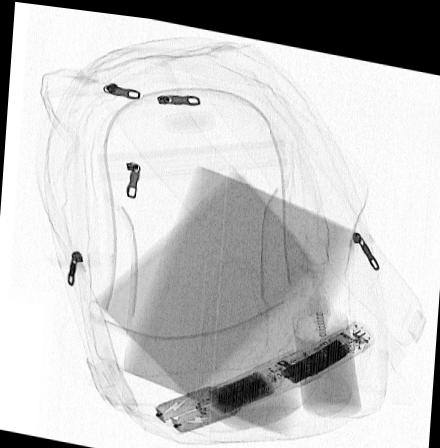Baton: (152, 309, 379, 430)
